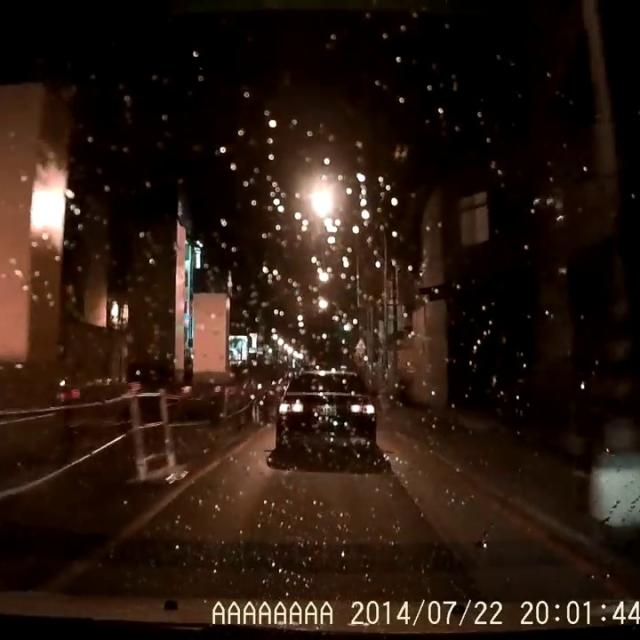Car: (272, 367, 376, 460)
